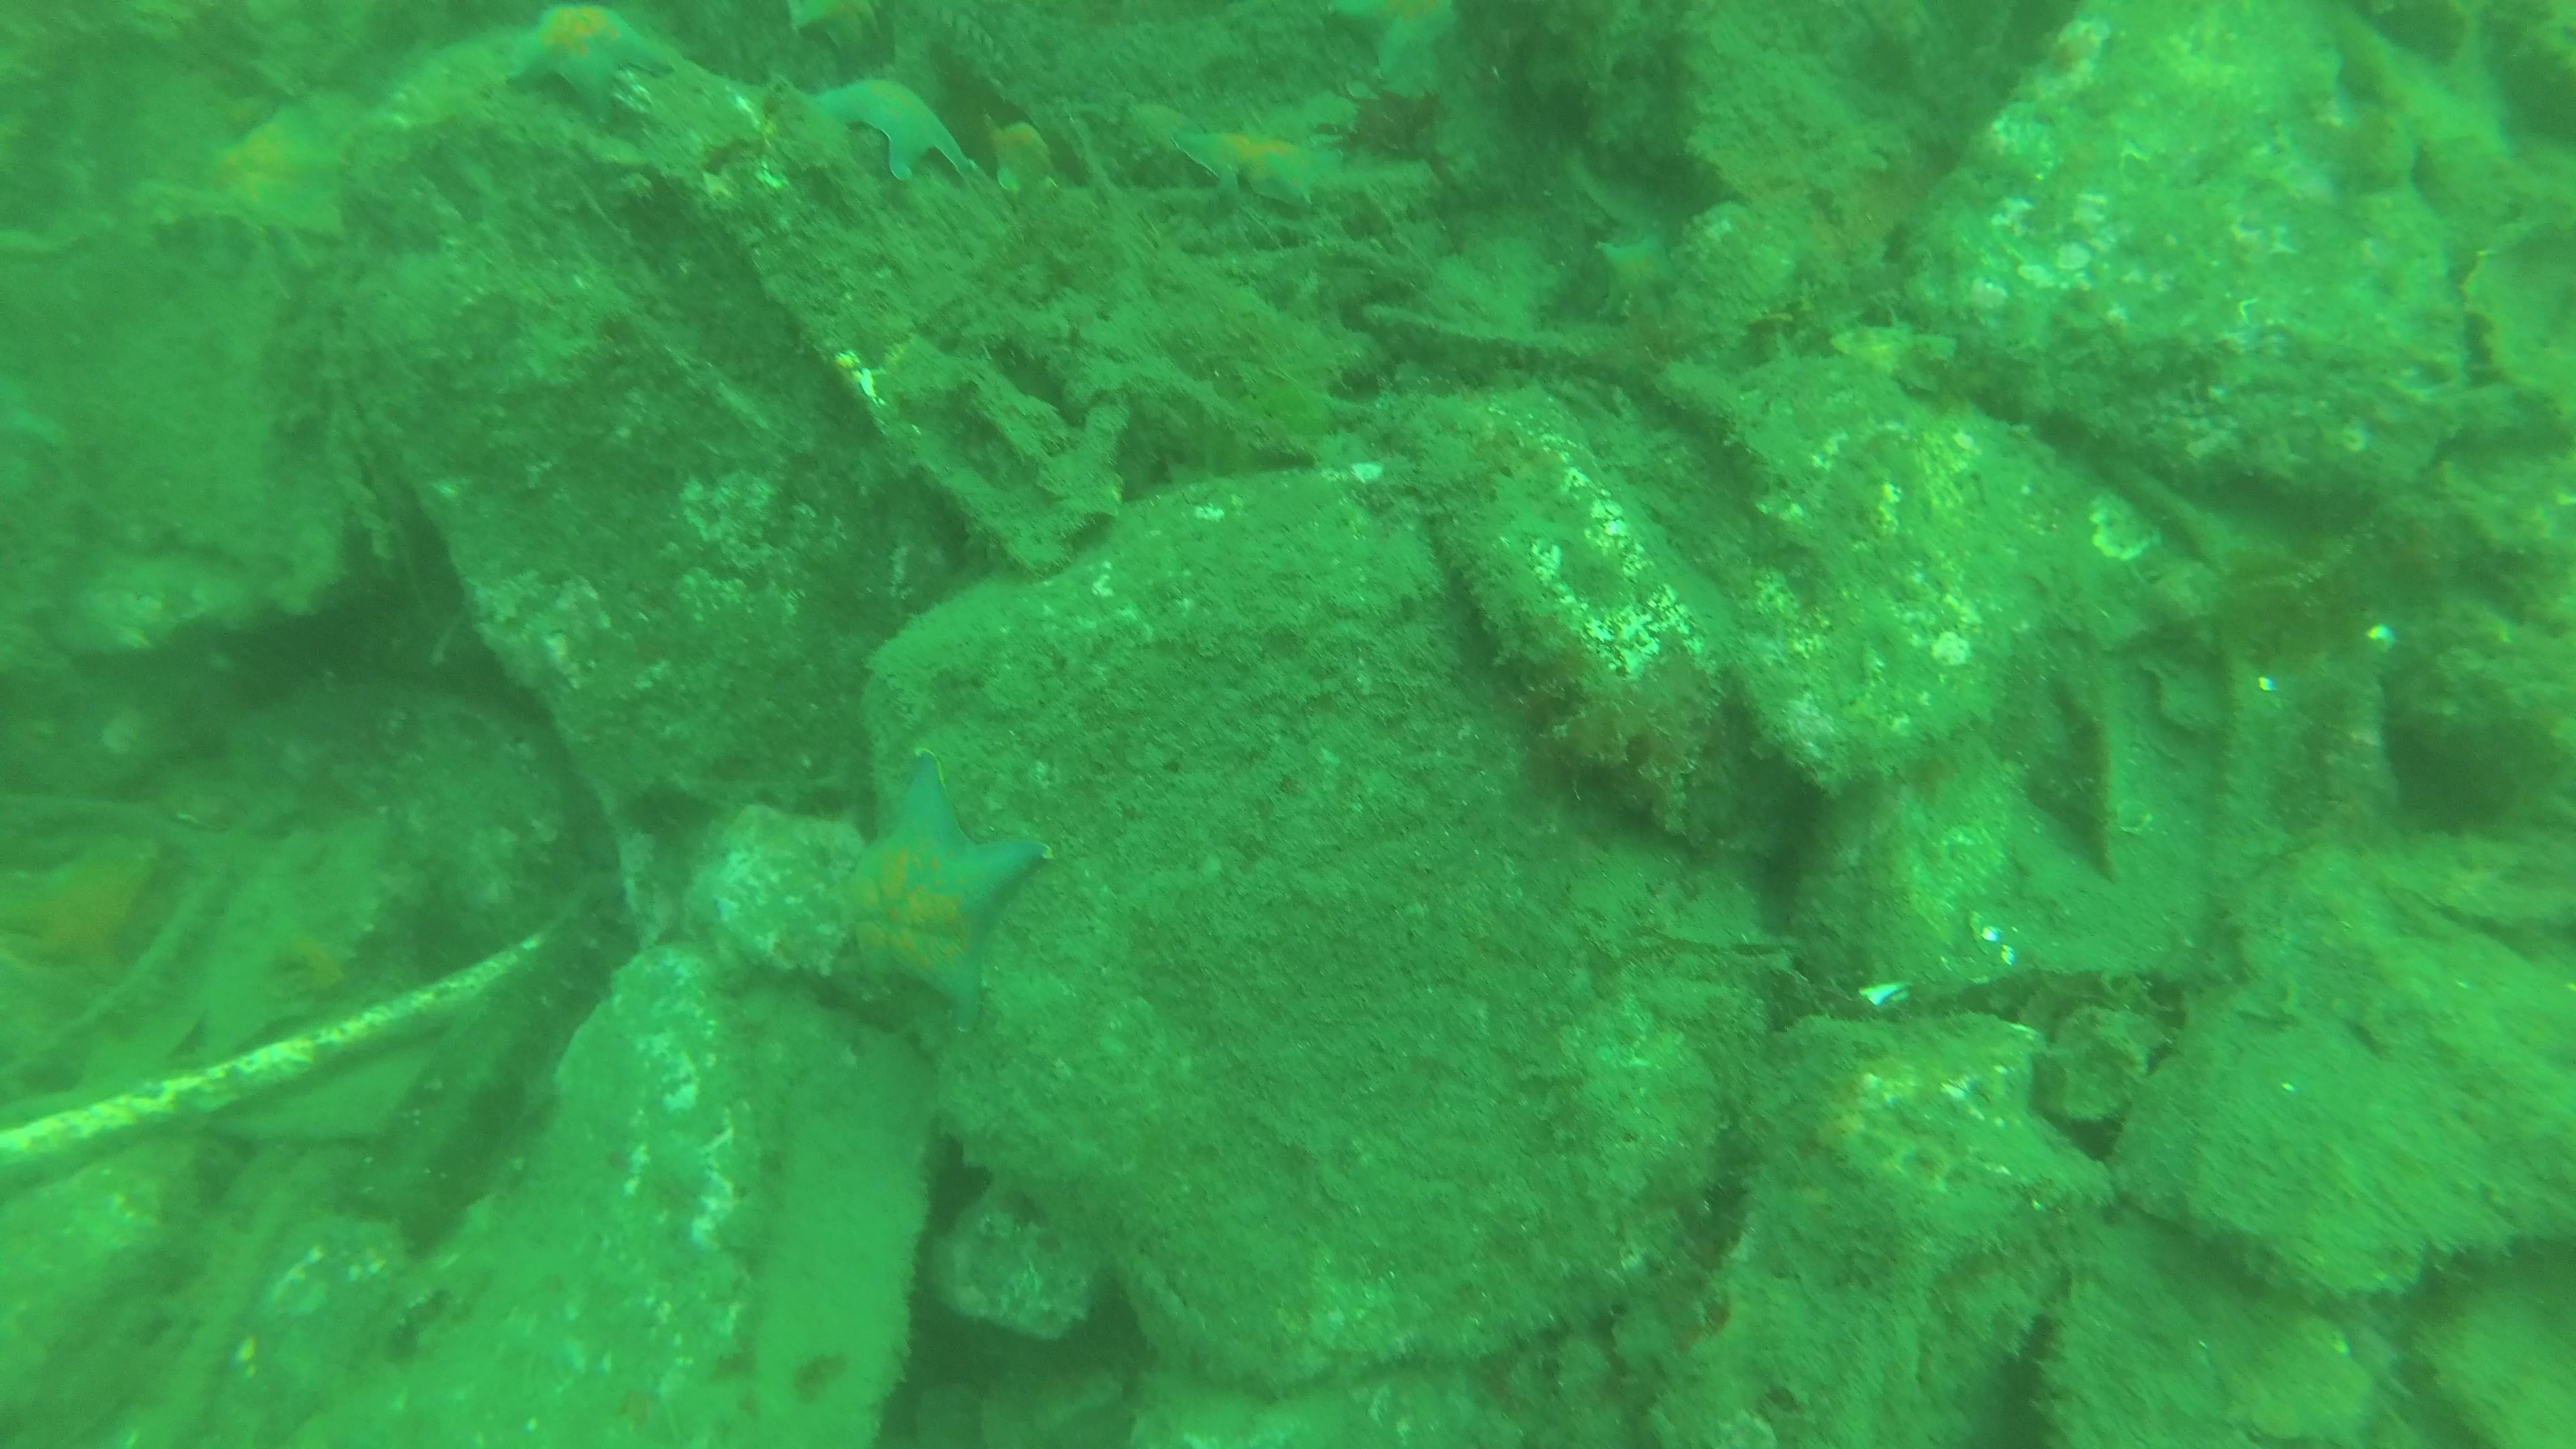starfish: (833, 736, 1054, 1014), (172, 101, 372, 255), (497, 2, 678, 127), (1168, 101, 1346, 212), (812, 65, 970, 173), (1366, 0, 1483, 99), (1599, 212, 1688, 336), (982, 106, 1074, 200)
